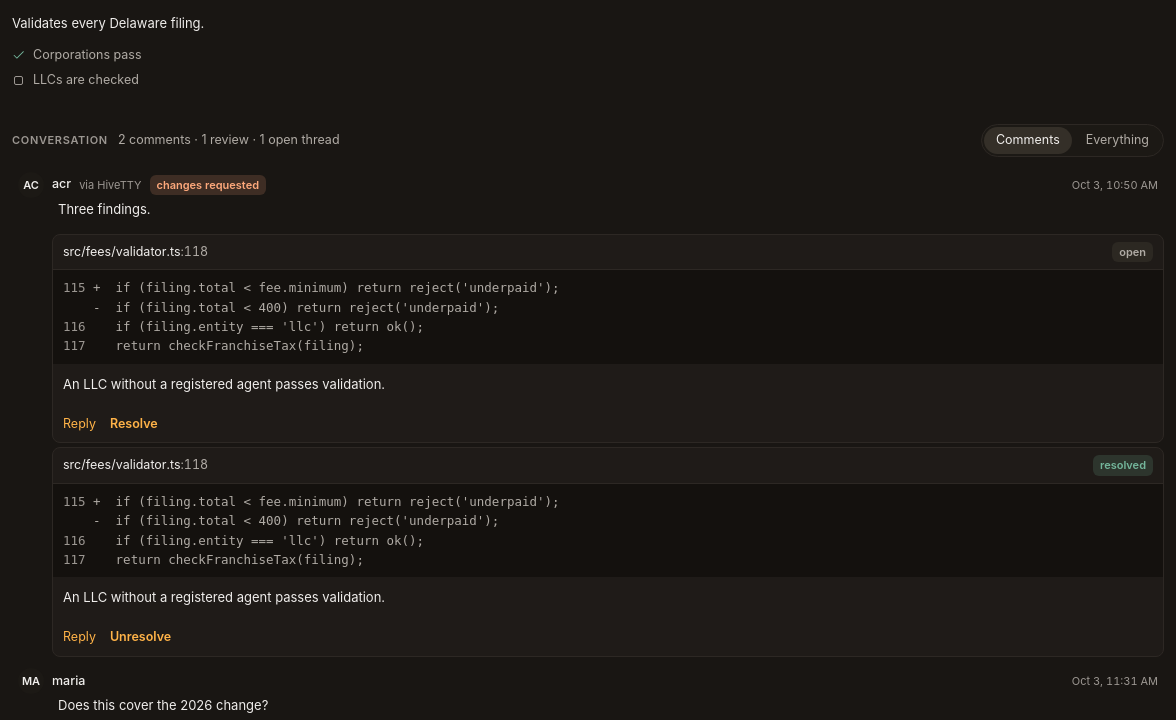
Scenario: PrConversation › adds HiveTTY's events naming the PR on Everything
expect the text "pushed 2 commits" is not shown: met
What coordinates should you click on to do the following:
click the radio button labelled "Everything"
I would click on:
 (1117, 140)
Its box is x1=1074 y1=127 x2=1161 y2=154.
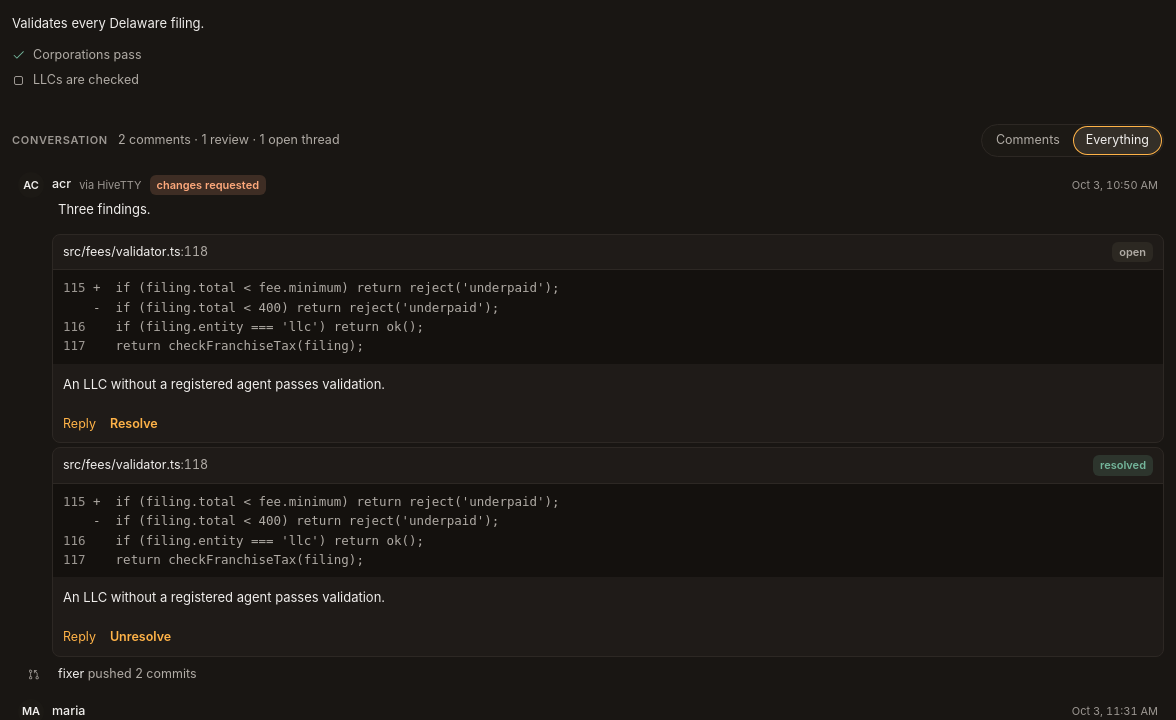
expect the text "fixer pushed 2 commits" is shown: met, box x1=58 y1=666 x2=196 y2=681
